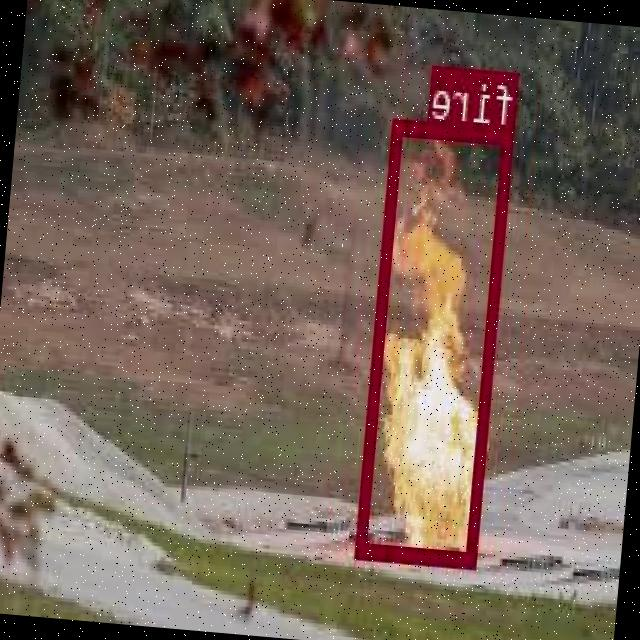fire: (357, 116, 516, 564)
